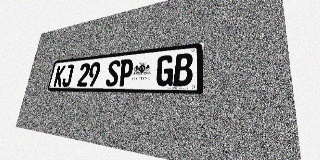2: (77, 63, 91, 87)
9: (87, 62, 101, 87)
B: (173, 53, 193, 86)
G: (155, 55, 174, 86)
J: (61, 64, 74, 87)
K: (53, 65, 66, 87)
P: (118, 58, 134, 86)
S: (105, 60, 121, 86)
